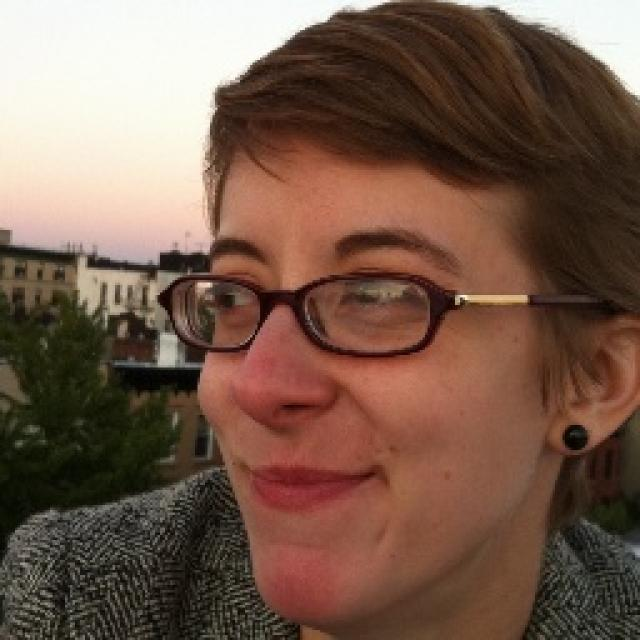earlobe: (546, 396, 618, 457)
eye: (337, 282, 419, 312), (214, 279, 268, 310)
nose: (241, 404, 330, 450)
wholeear: (546, 314, 639, 458)
